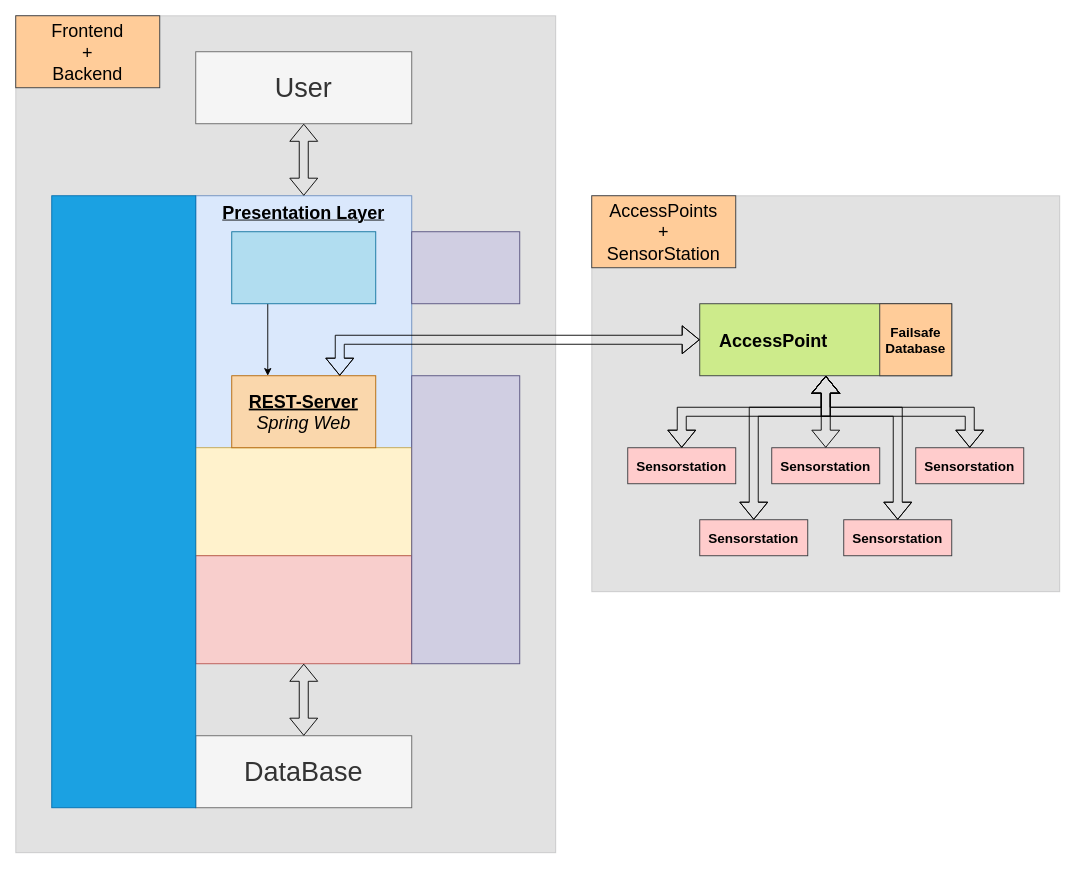
This 1076x869 diagram has some shape labels left out. The shapes that lost their labels are listed below. From the top down, each one's centre as x and y in pixels, then its label:
the point at 303,267: Web-UI Svelte-Kit
the point at 465,267: Build Tool Vite
the point at 123,501: Deployment Tool Docker
the point at 303,501: Application Layer Java
the point at 465,519: Build Tool Gradle (or Maven)
the point at 303,609: Persistence Layer JDBC
